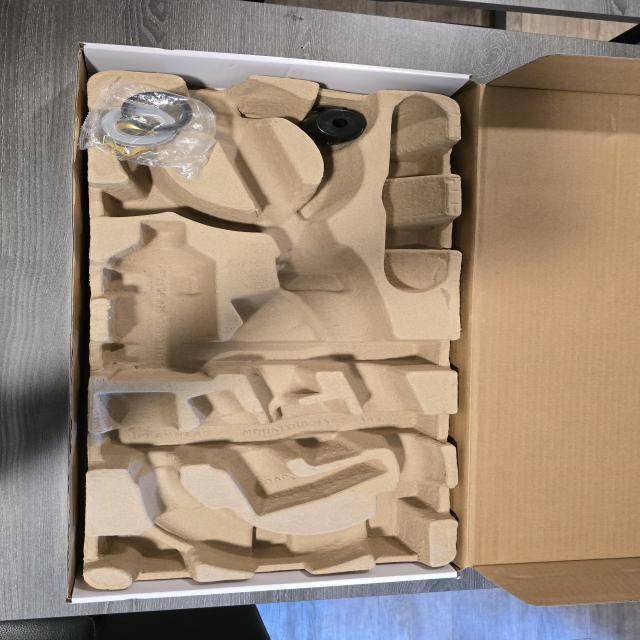1m: (97, 76, 447, 573)
2m: (192, 390, 386, 516)
3m: (109, 219, 214, 384)
4m: (379, 95, 450, 293)
5: (309, 102, 368, 148)
6: (73, 72, 219, 179)
7m: (101, 169, 211, 220)
